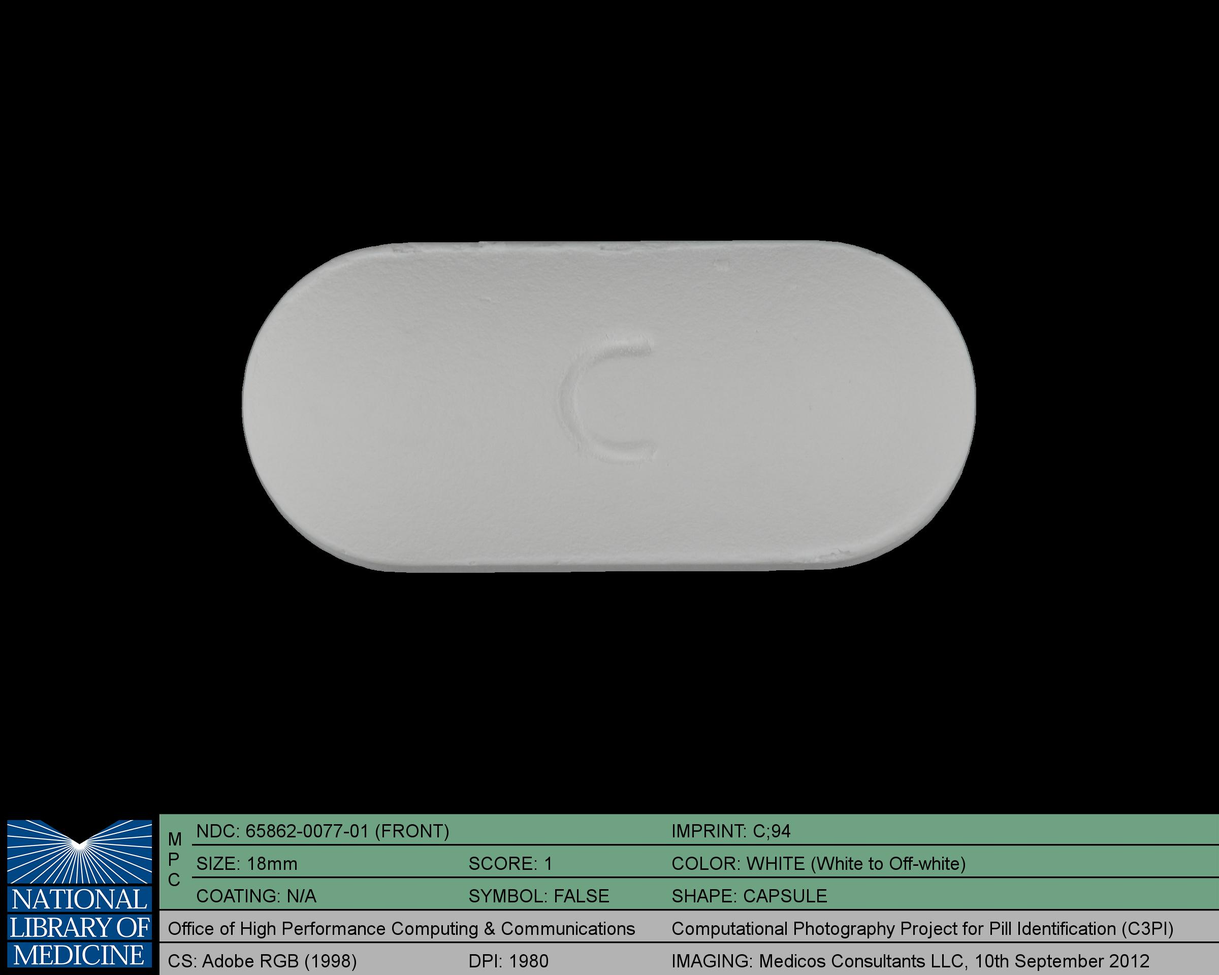Pill: (227, 223, 990, 584)
